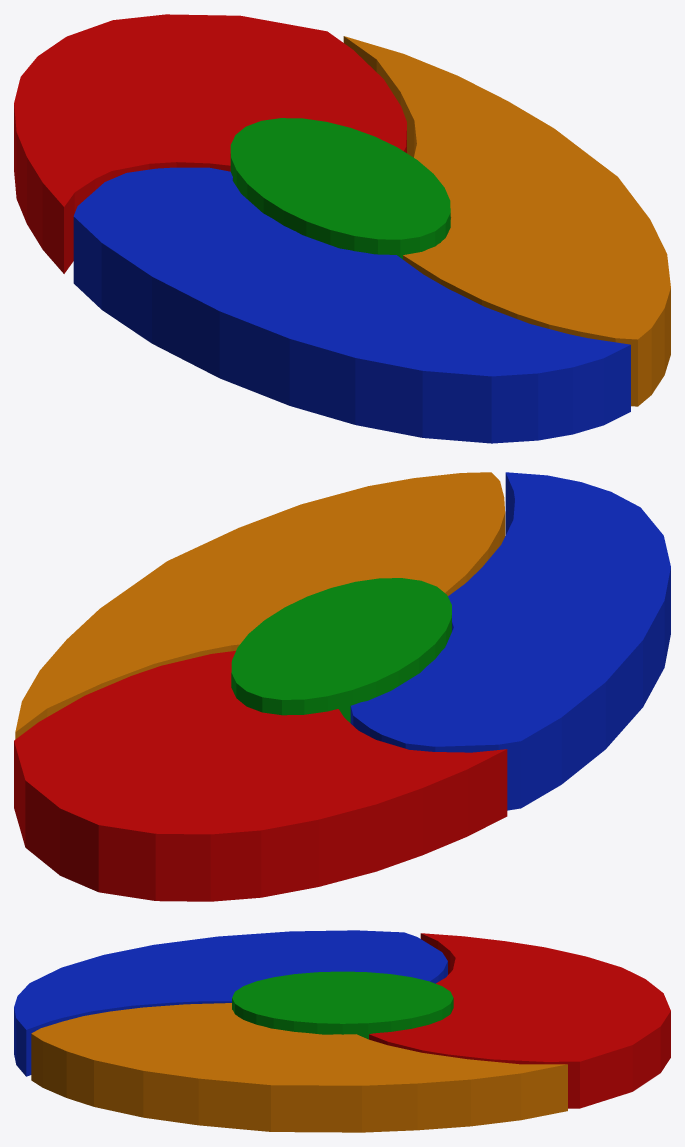
Rendered from Planet Darkson04.FBX.
The picture shows the model from 3 angles, top to bottom: view 1: azimuth 30°, elevation 25°; view 2: azimuth 150°, elevation 25°; view 3: azimuth 270°, elevation 25°; orthographic projection. The views are drawn at different scales.
Parts seen in each view (by area): view 1: Line032, Line031, Line033, Ellipse002; view 2: Line031, Line032, Line033, Ellipse002; view 3: Line033, Line031, Line032, Ellipse002.
Boxes of the visible parts, left/top/right/bottom form: Line032: left=73, top=167, right=630, bottom=443; Line031: left=14, top=14, right=406, bottom=273; Line033: left=343, top=36, right=670, bottom=406; Ellipse002: left=230, top=118, right=450, bottom=259; Line031: left=14, top=650, right=507, bottom=901; Line032: left=350, top=472, right=670, bottom=810; Line033: left=15, top=472, right=505, bottom=739; Ellipse002: left=231, top=578, right=451, bottom=722; Line033: left=31, top=1003, right=567, bottom=1132; Line031: left=369, top=933, right=670, bottom=1108; Line032: left=14, top=930, right=447, bottom=1076; Ellipse002: left=232, top=971, right=453, bottom=1039.
Bounding box in the file's own units: 58.04 × 11.85 × 104.
